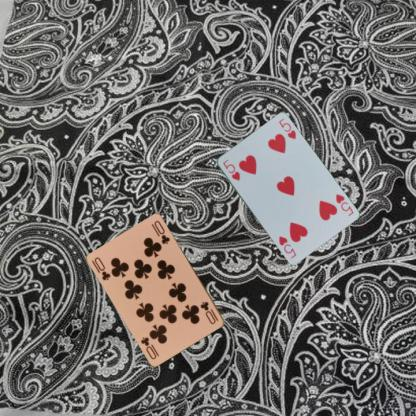10c: (198, 299, 220, 325), (92, 254, 112, 282)
5h: (333, 191, 354, 217), (220, 157, 241, 182)
